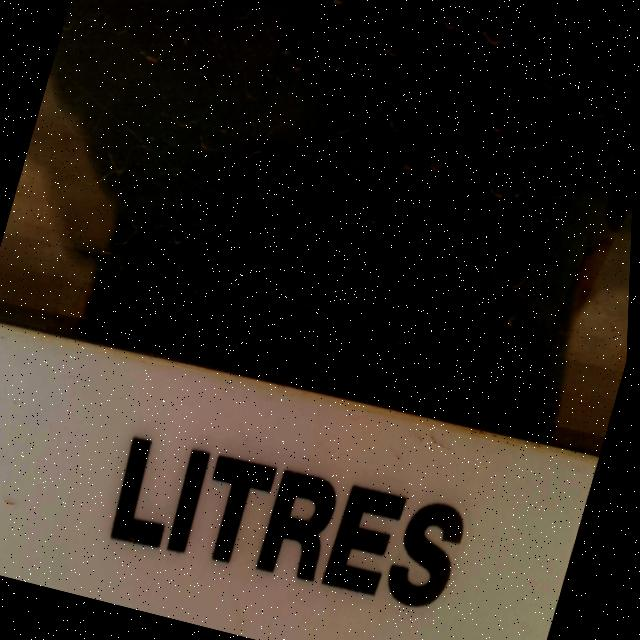.: (425, 272, 491, 372)
0: (468, 49, 639, 392)
2: (180, 0, 411, 331)
3: (334, 17, 541, 351)
